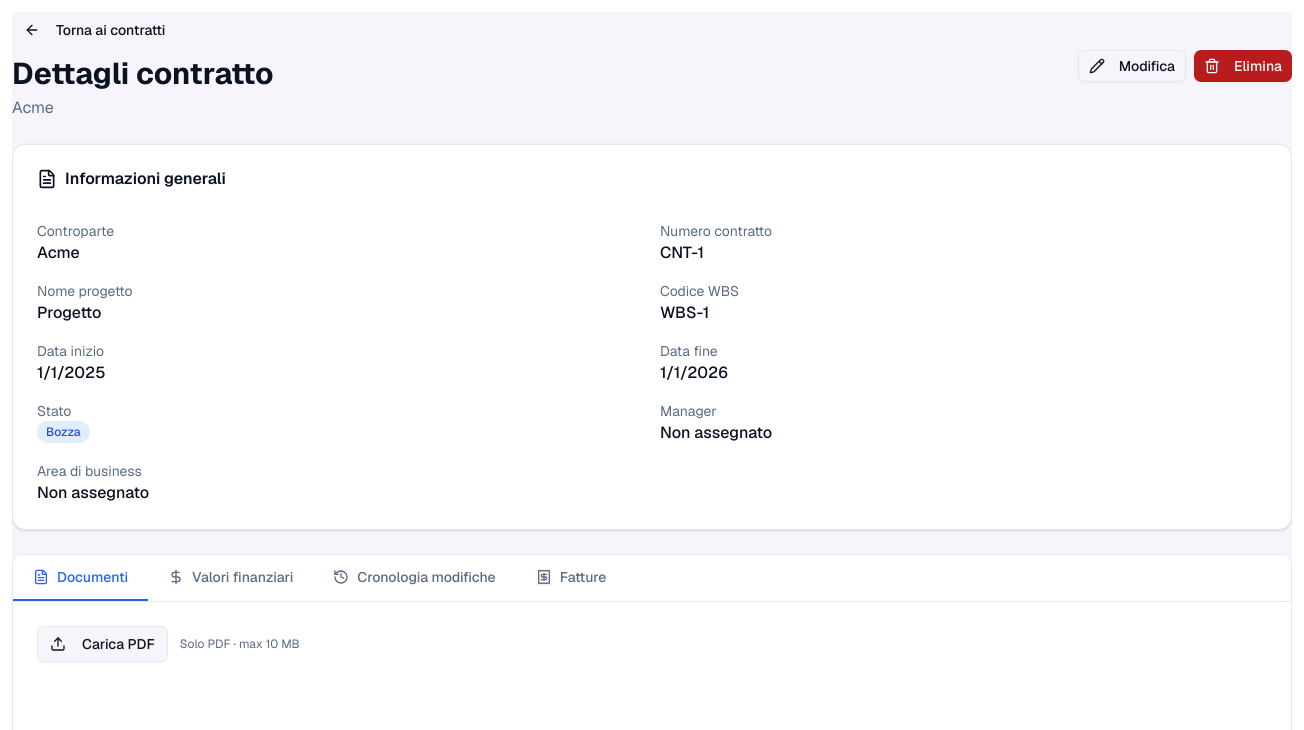
Scenario: ContractDetailPage — regenerate financial values button › shows the button for an ADMIN when the contract has financial terms set
Click the button "Valori finanziari" at (231, 578), box [148,555,313,601]
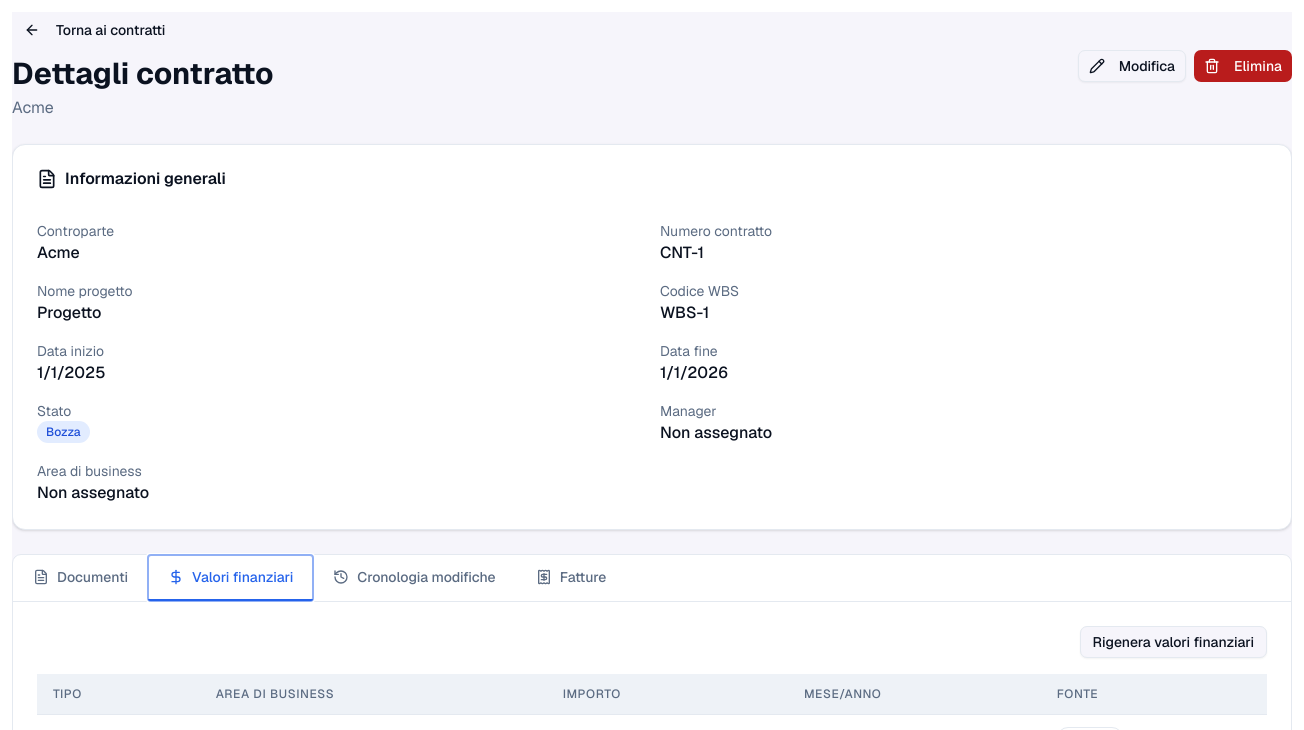
Now the button "Rigenera valori finanziari" is shown, box [1080,626,1267,658]
